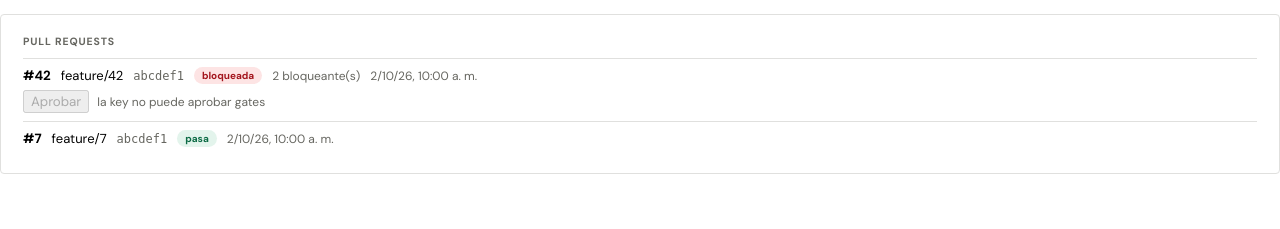
it: PullRequestsPanel › lista cada PR con su estado y sus bloqueantes
Expected: the text "bloqueada" is shown, x1=194 y1=67 x2=262 y2=84
Expected: the text "2 bloqueante(s)" is shown, x1=272 y1=68 x2=360 y2=84
Step 1. Click the button "#42" → point(37, 76), box x1=23 y1=67 x2=51 y2=84
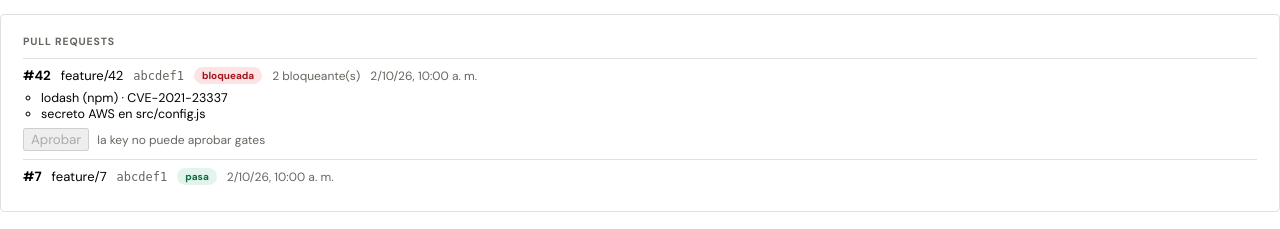
Expected: the text "pasa" is shown, x1=177 y1=168 x2=217 y2=185
Now the list item "lodash (npm) · CVE-2021-23337" is shown, box x1=41 y1=90 x2=228 y2=106
Now the list item "secreto AWS en src/config.js" is shown, box x1=41 y1=106 x2=205 y2=122
